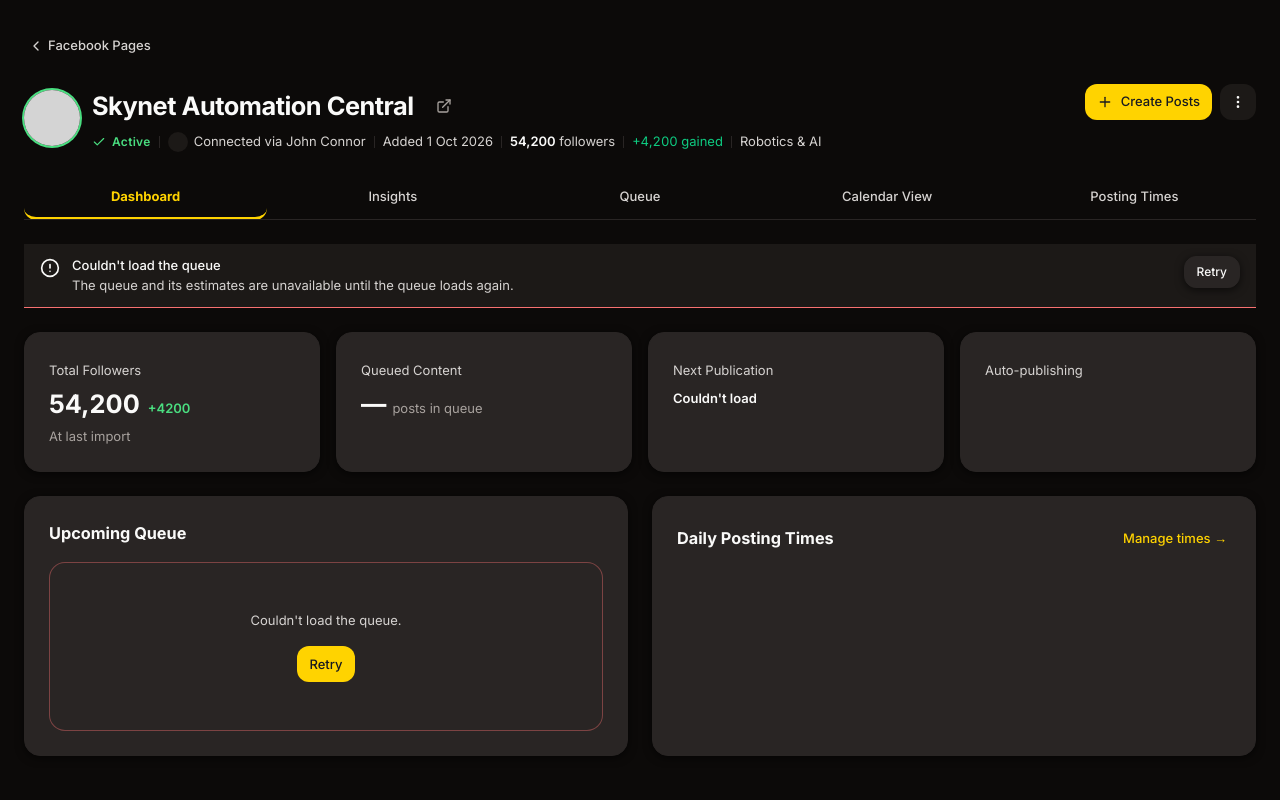
Test: Dedicated tab row — final scope (Dashboard, Insights, Queue, Calendar View, Posting Times) › Queue tab renders the real queue panel, not a placeholder
Click the tab with test id "tab-queue-btn" at {"x": 640, "y": 198}, box [518,176,762,220]
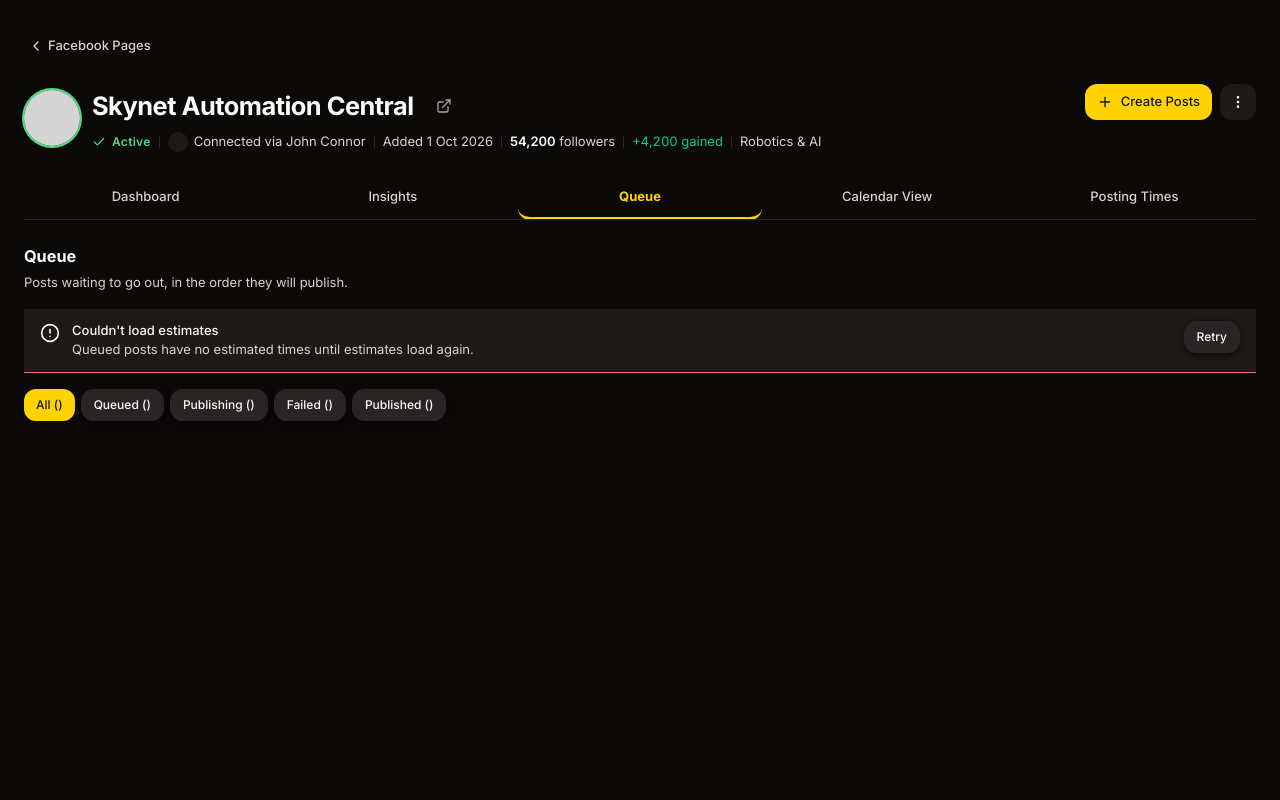
Check: the element with test id "queue-panel" is shown, box [24,244,1256,437]
